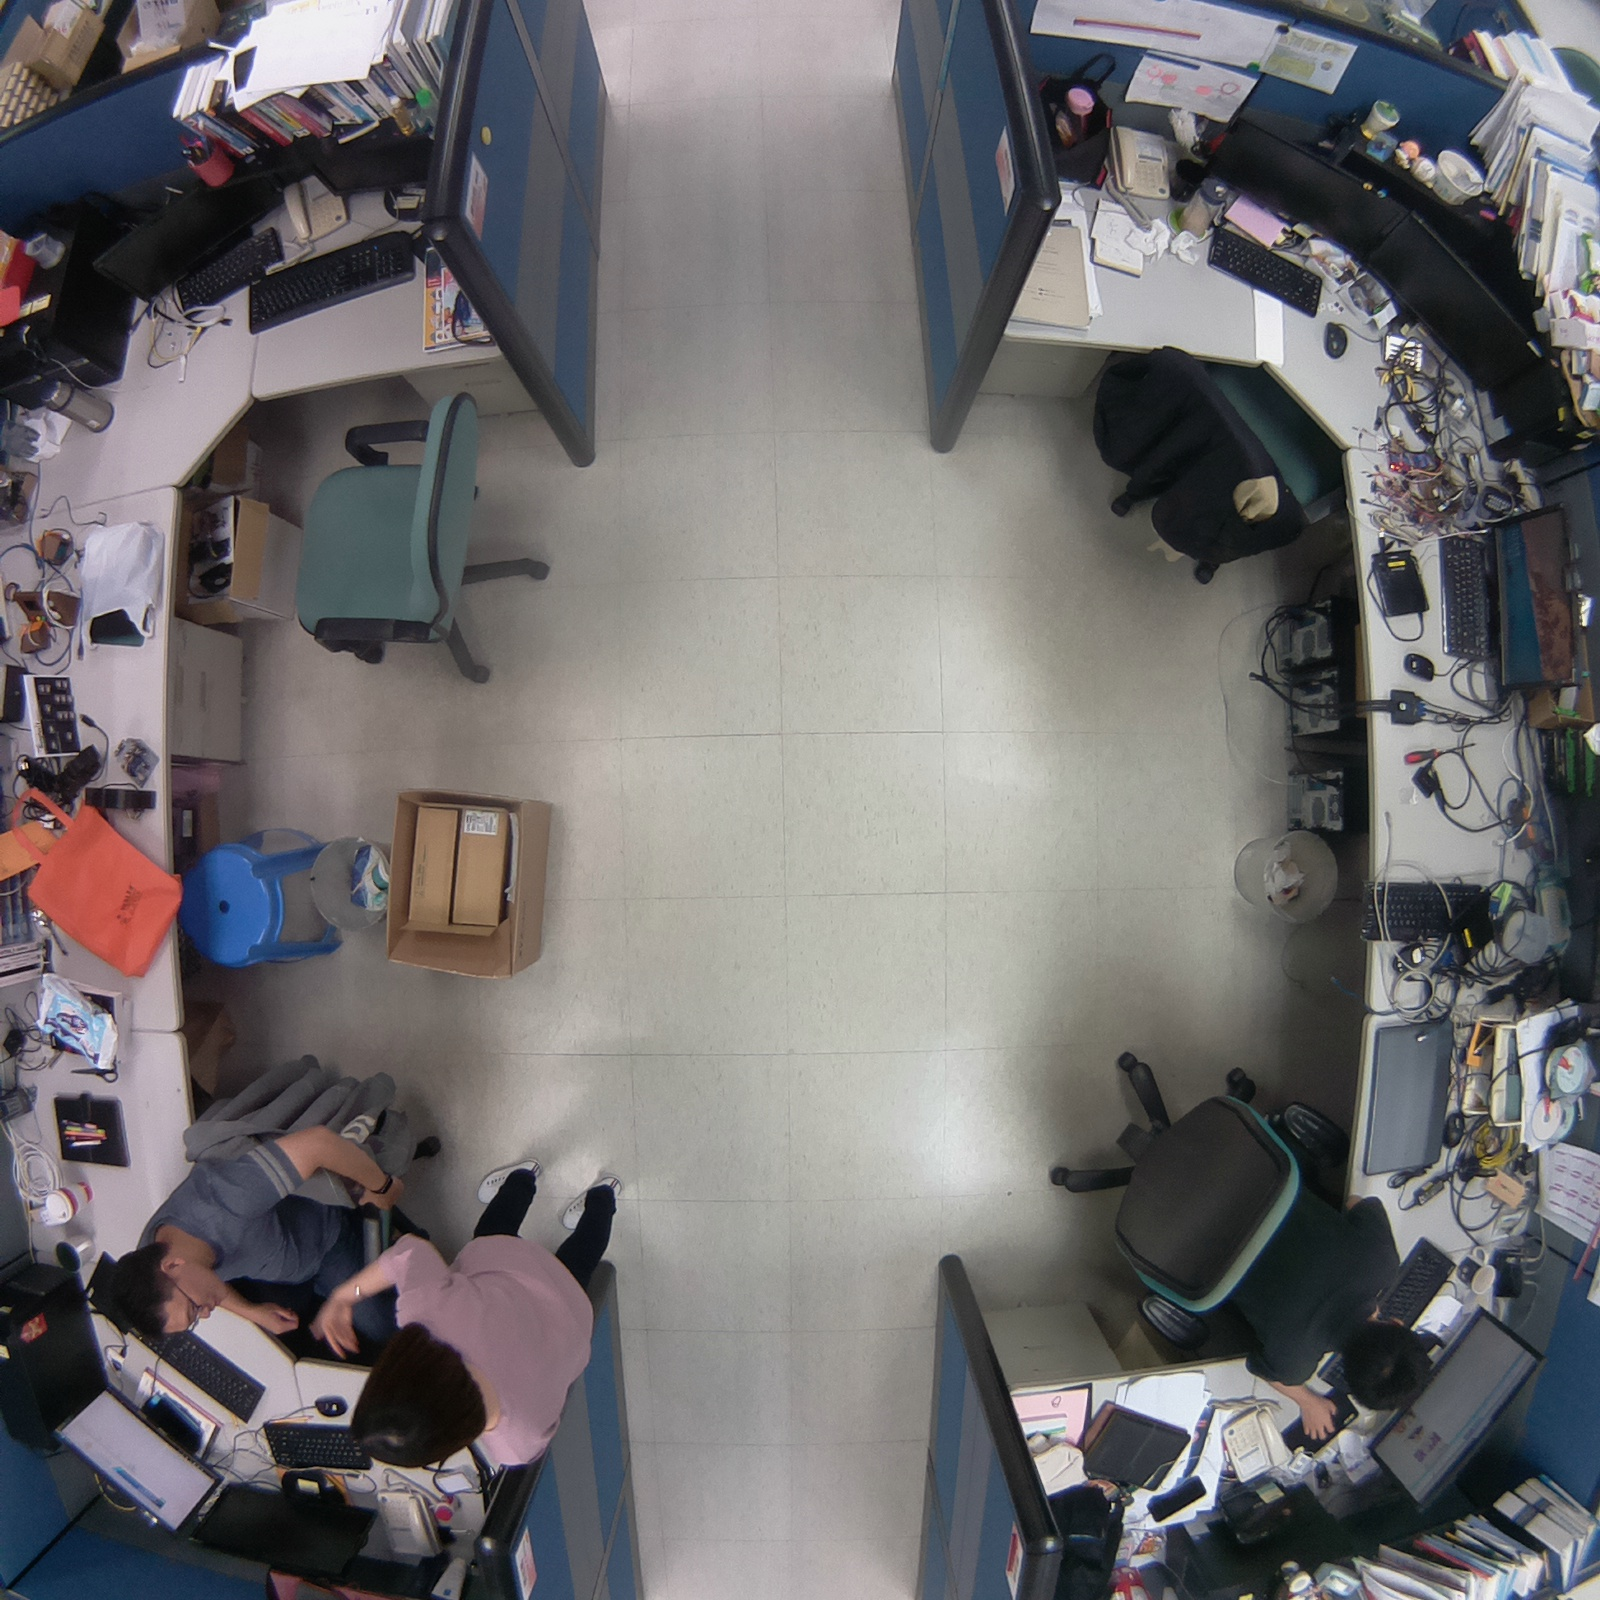chair: (276, 360, 563, 706), (1088, 324, 1350, 596)
head: (339, 1312, 499, 1478), (90, 1243, 227, 1343), (1335, 1308, 1441, 1418)
sitting: (1042, 1037, 1444, 1454), (90, 1024, 468, 1357)
standing: (304, 1134, 635, 1514)
